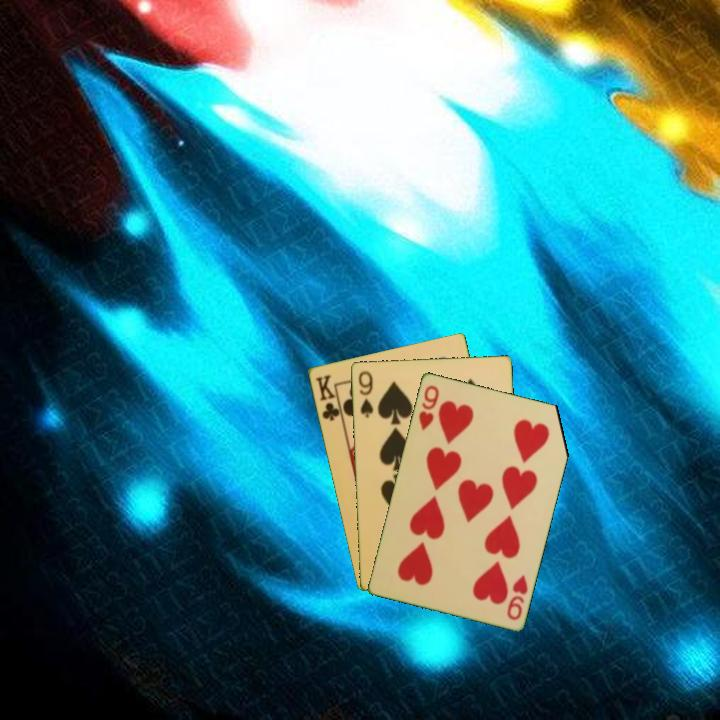9h: (415, 381, 442, 433), (503, 571, 530, 623)
9s: (355, 367, 376, 420)
Kc: (312, 371, 345, 424)
